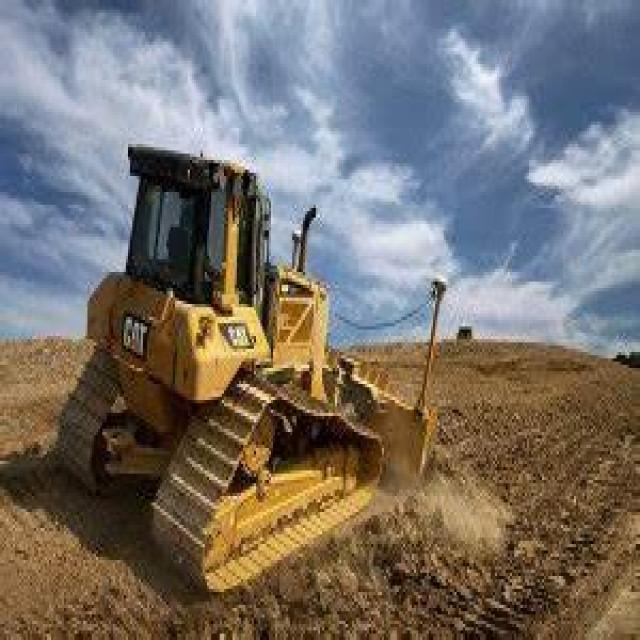Bulldozer: (47, 128, 499, 614)
